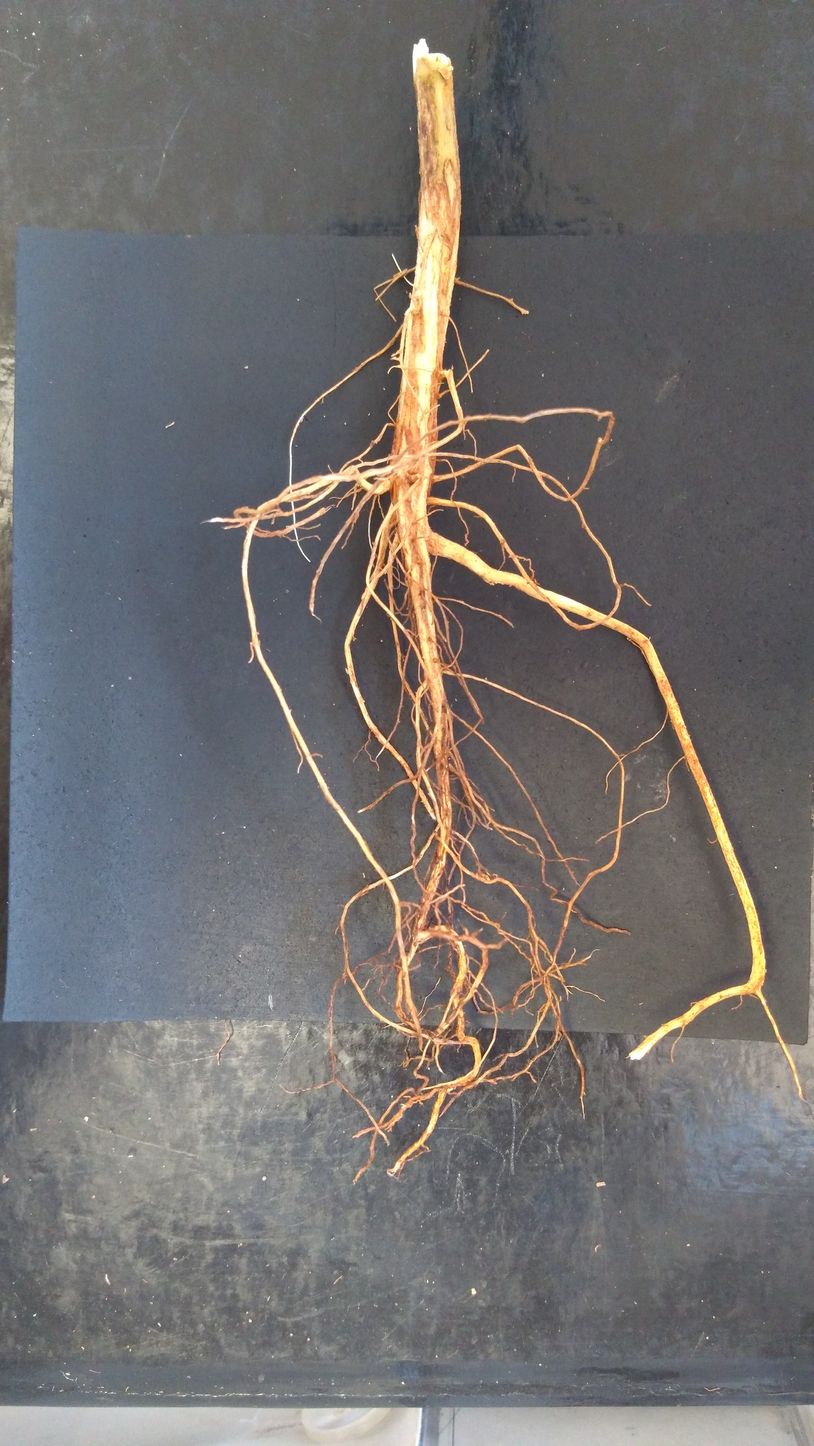nodule: (411, 293, 423, 314), (476, 873, 498, 881), (408, 473, 421, 483), (484, 677, 488, 680)
